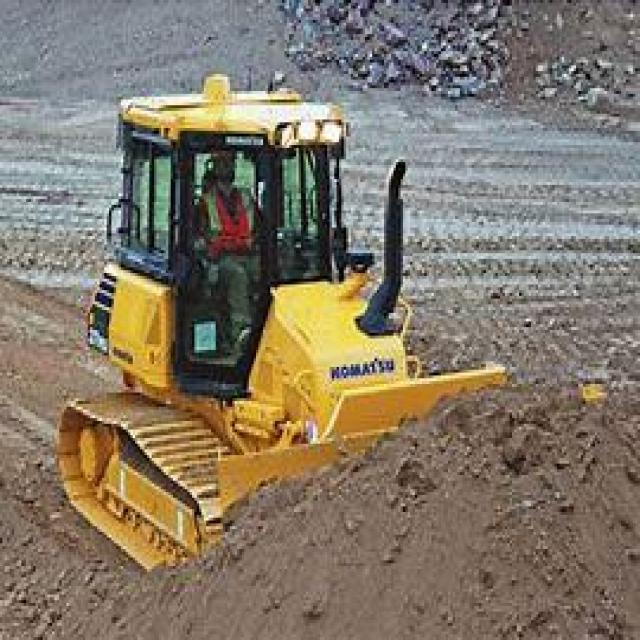Bulldozer: (52, 68, 536, 592)
